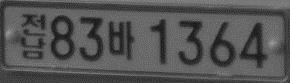1: (148, 18, 172, 64)
3: (178, 20, 203, 65), (79, 16, 103, 61)
4: (239, 22, 268, 68)
6: (209, 22, 235, 67)
8: (50, 14, 75, 59)
바: (107, 20, 134, 59)
전남_V: (20, 13, 46, 59)
